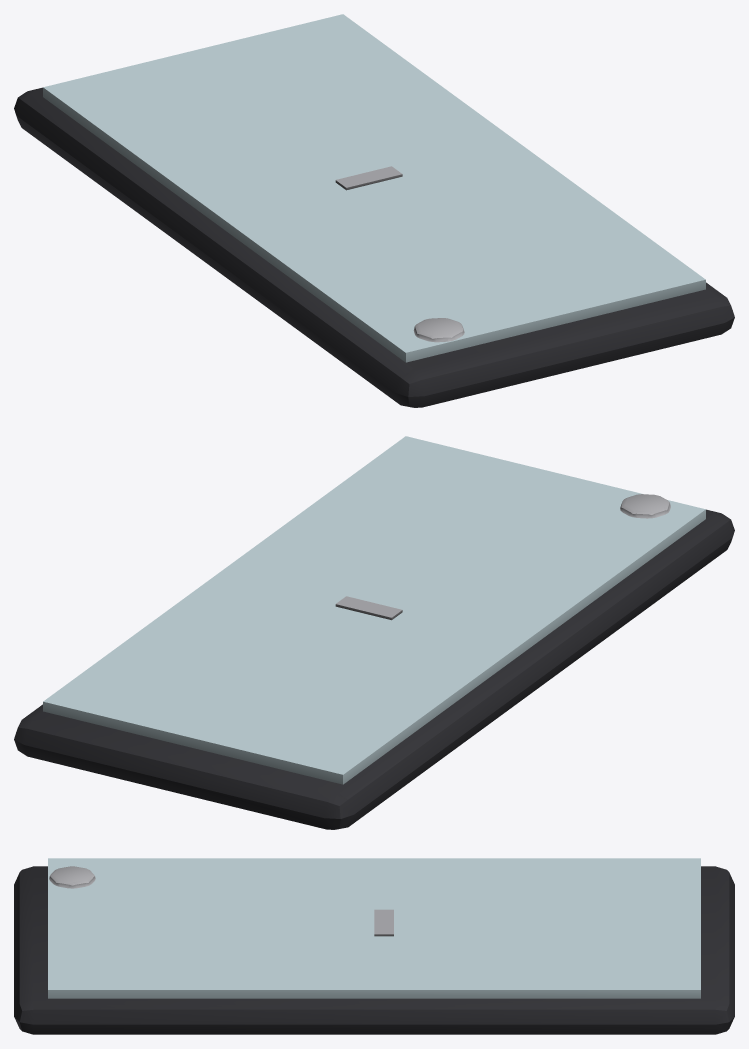
Rendered from phone_mobile.glb.
The picture shows the model from 3 angles, top to bottom: view 1: azimuth 30°, elevation 25°; view 2: azimuth 150°, elevation 25°; view 3: azimuth 270°, elevation 25°; orthographic projection. The views are drawn at different scales.
Parts seen in each view (by area): view 1: phone_mobile; view 2: phone_mobile; view 3: phone_mobile.
Boxes of the visible parts, x1,y1,x2,y2 form: phone_mobile: (14,14,734,407); phone_mobile: (14,436,734,829); phone_mobile: (14,858,734,1034).
Size of the model in its own units: 0.072 by 0.011 by 0.148.
